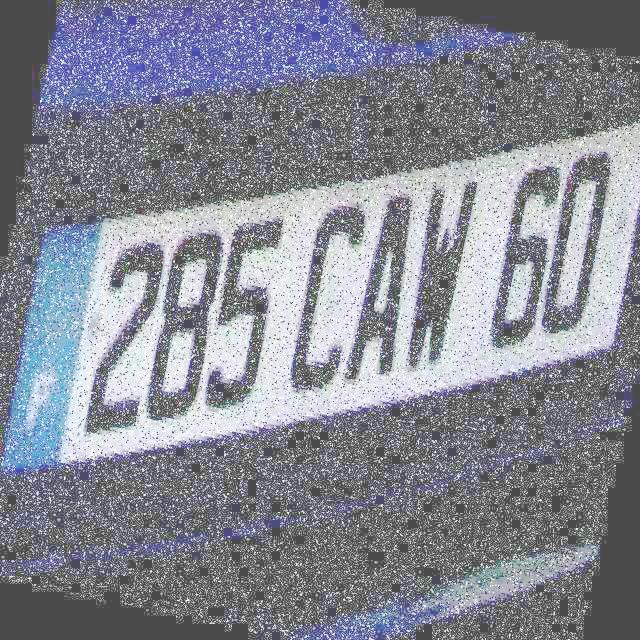license_plate: (1, 104, 639, 489)
